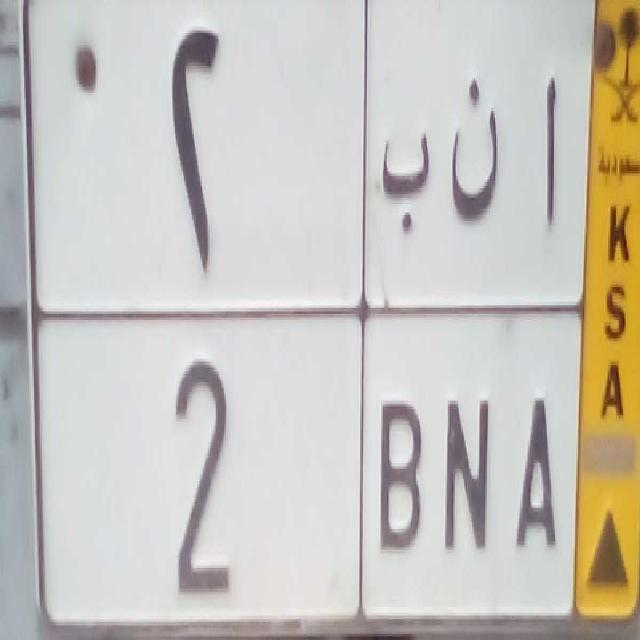license_plate: (28, 305, 585, 640)
